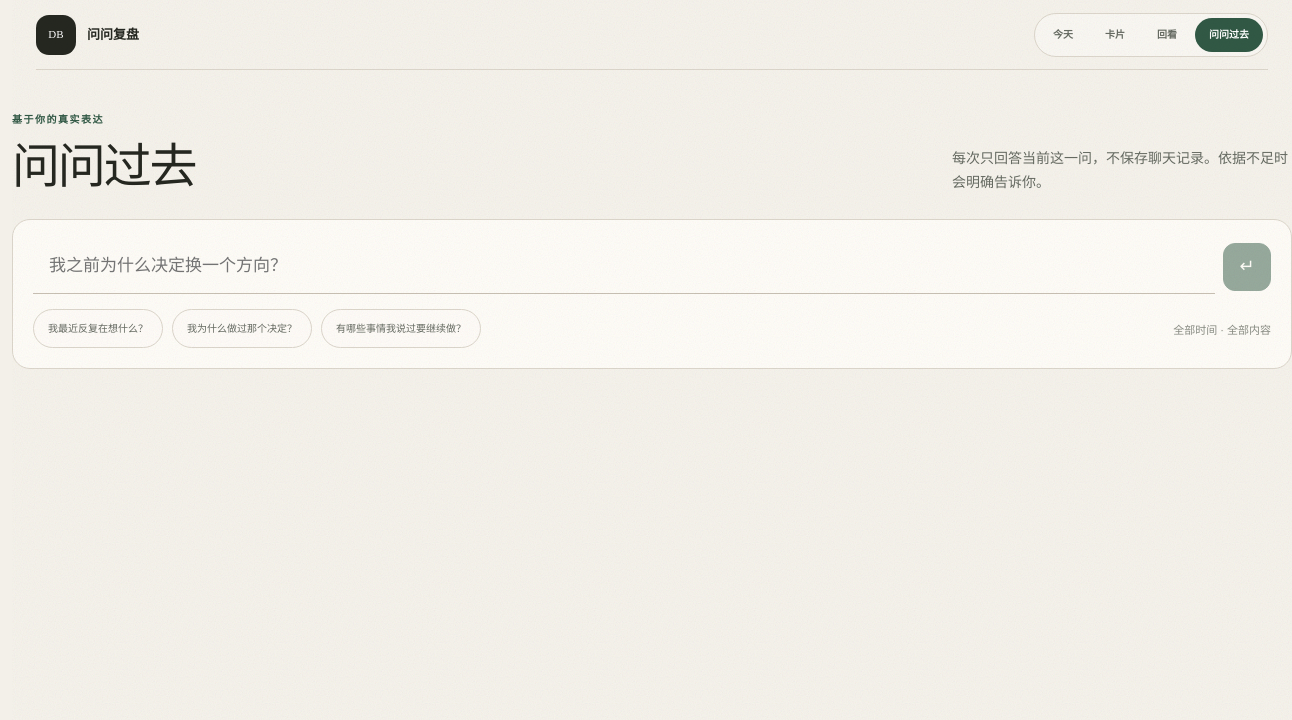
it: DailyReflectionQuery › renders an explicit insufficient-evidence result without inventing sources
Step 1. Type "没有证据的问题" into the field named "你想问什么" → (624, 267), box [33,240,1215,294]
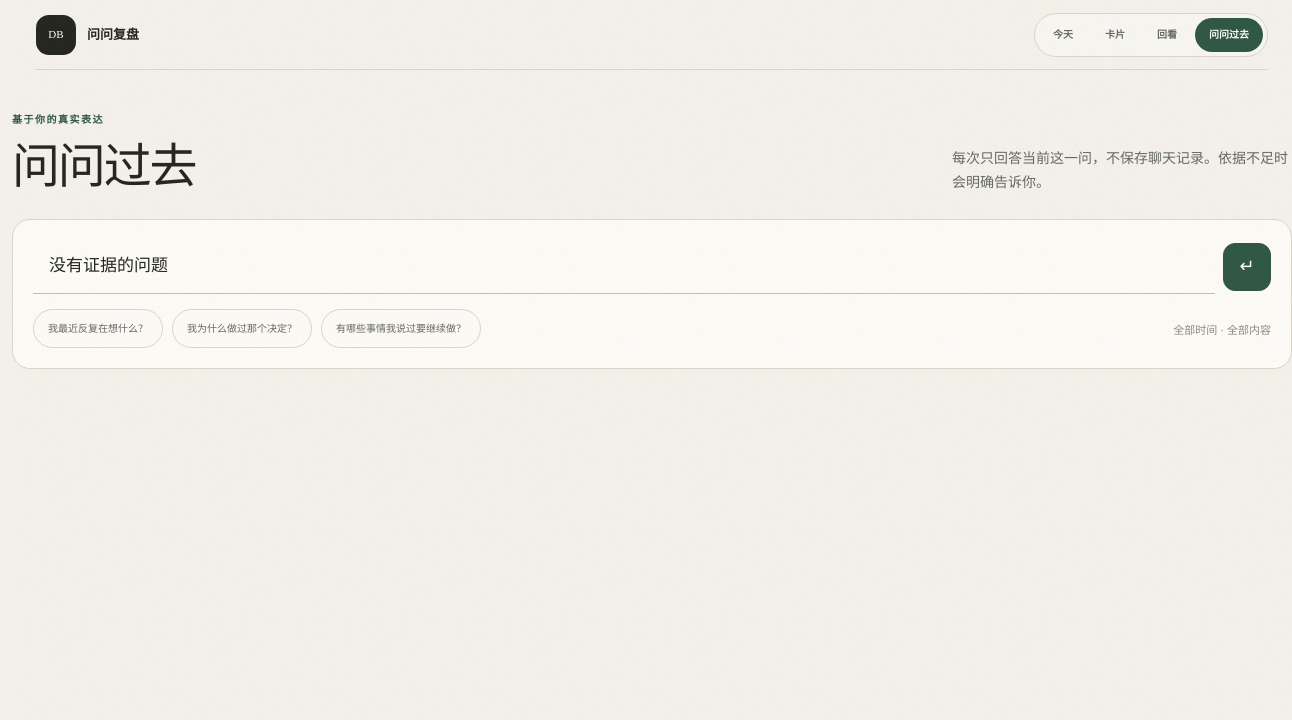
Step 2. Click the button named "查找" → (1247, 267), box [1223,243,1271,291]
(page scrolled)
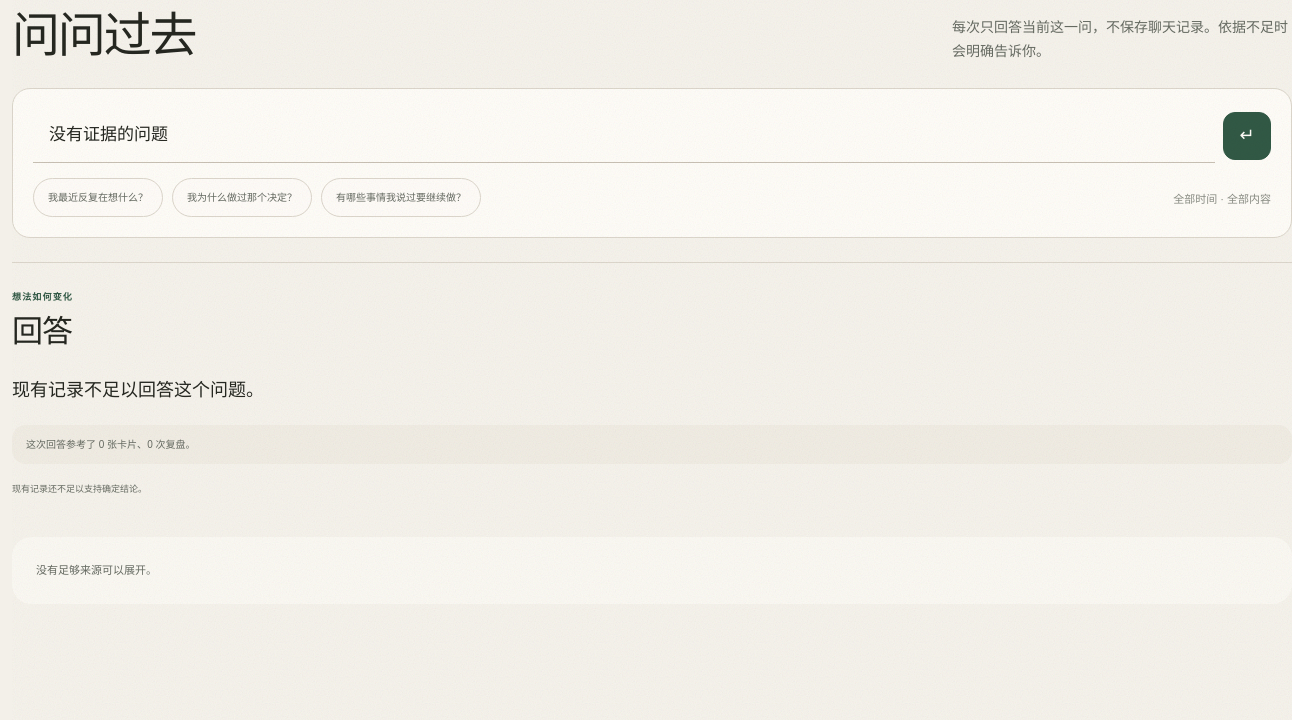
Check: the text "现有记录不足以回答这个问题。" is shown, box [12,380,264,400]
Check: the text "现有记录还不足以支持确定结论。" is shown, box [12,484,147,494]
Check: the text "没有足够来源可以展开。" is shown, box [12,537,1291,604]
